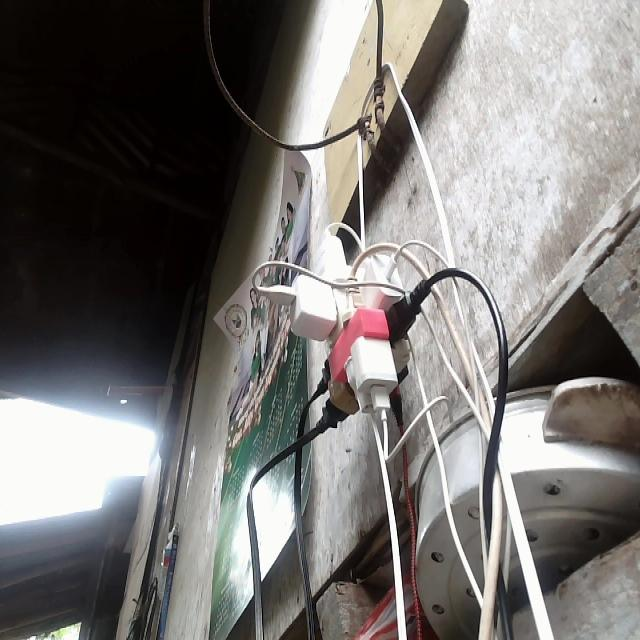-: (260, 224, 433, 433)
